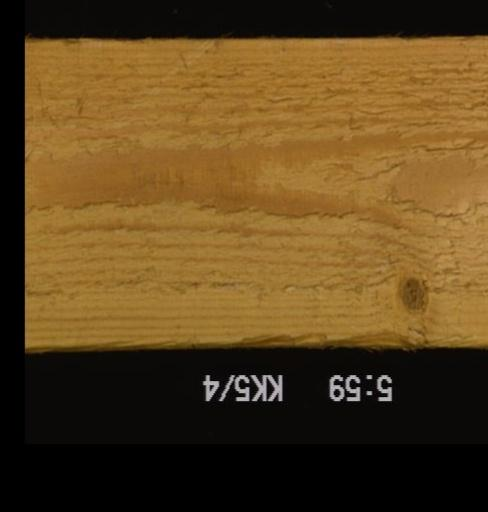sound_knot: (389, 272, 434, 318)
wave: (167, 326, 431, 348)
